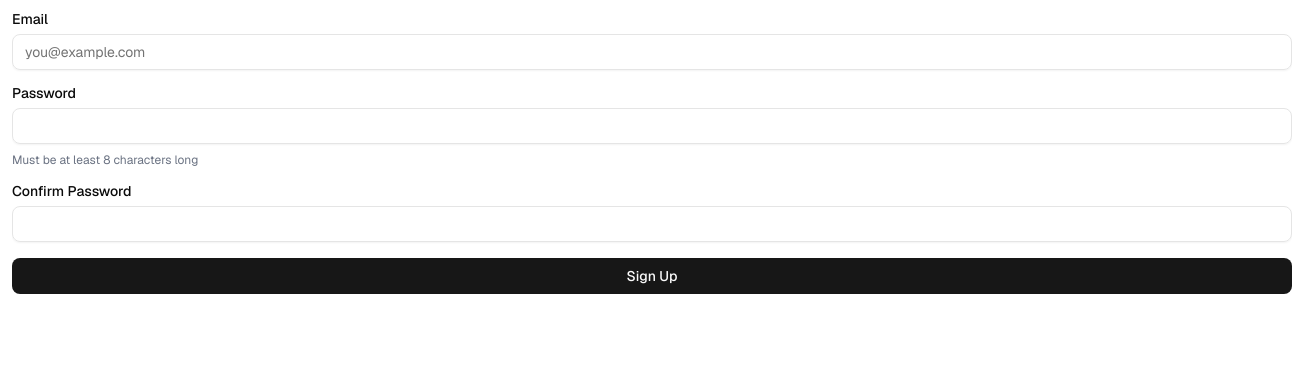
Test: SignUpForm › password confirmation validation › shows error when passwords do not match
Type "user@example.com" into the field labelled "Email" at [652, 52], box [12,34,1292,70]
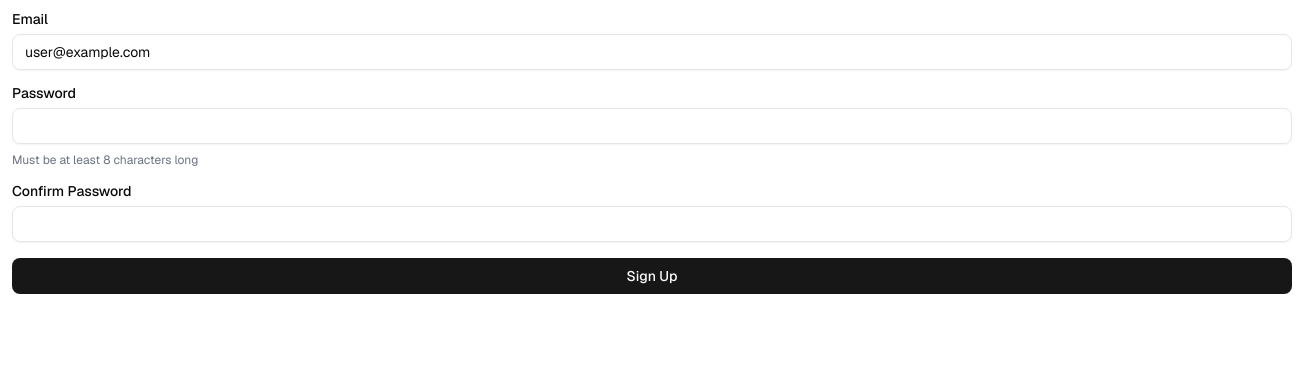
Type "password123" into the password field labelled "Password" at [652, 126], box [12,108,1292,144]
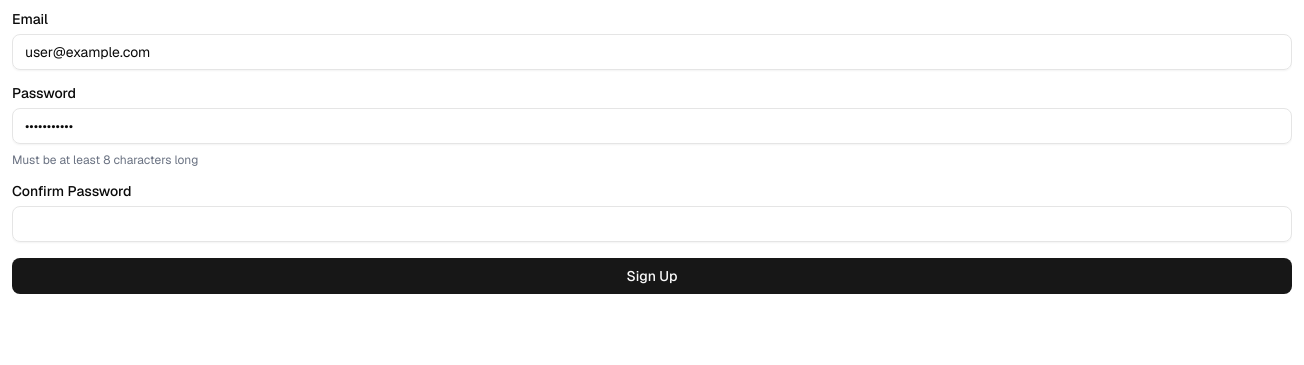
Type "differentpassword" into the password field labelled "Confirm Password" at [652, 224], box [12,206,1292,242]
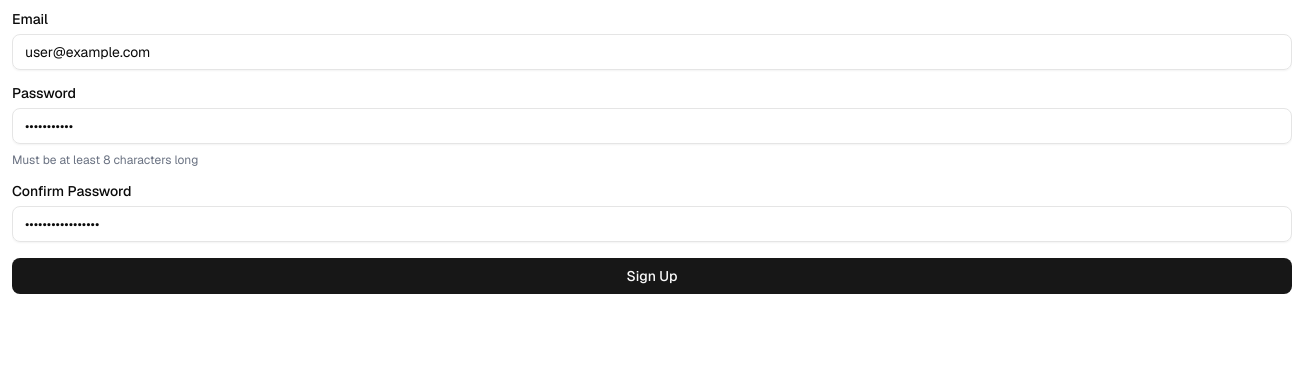
Submit the form from the button "Sign Up", box [12,258,1292,294]
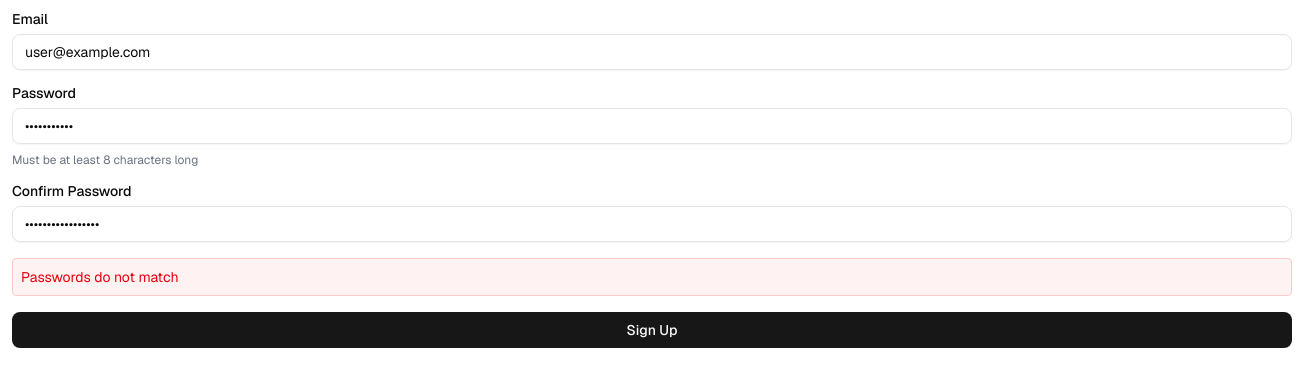
Now the text "Passwords do not match" is shown, box [12,258,1292,296]
